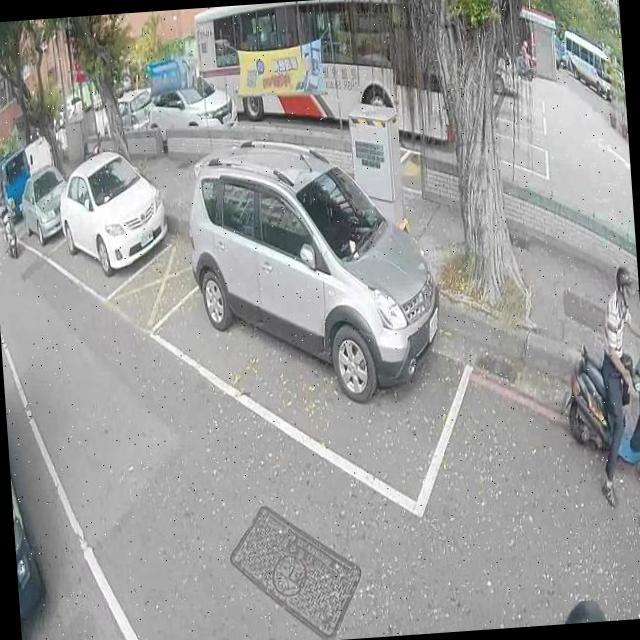person: (583, 262, 640, 508), (558, 594, 608, 624), (0, 187, 16, 239), (518, 37, 530, 65)
